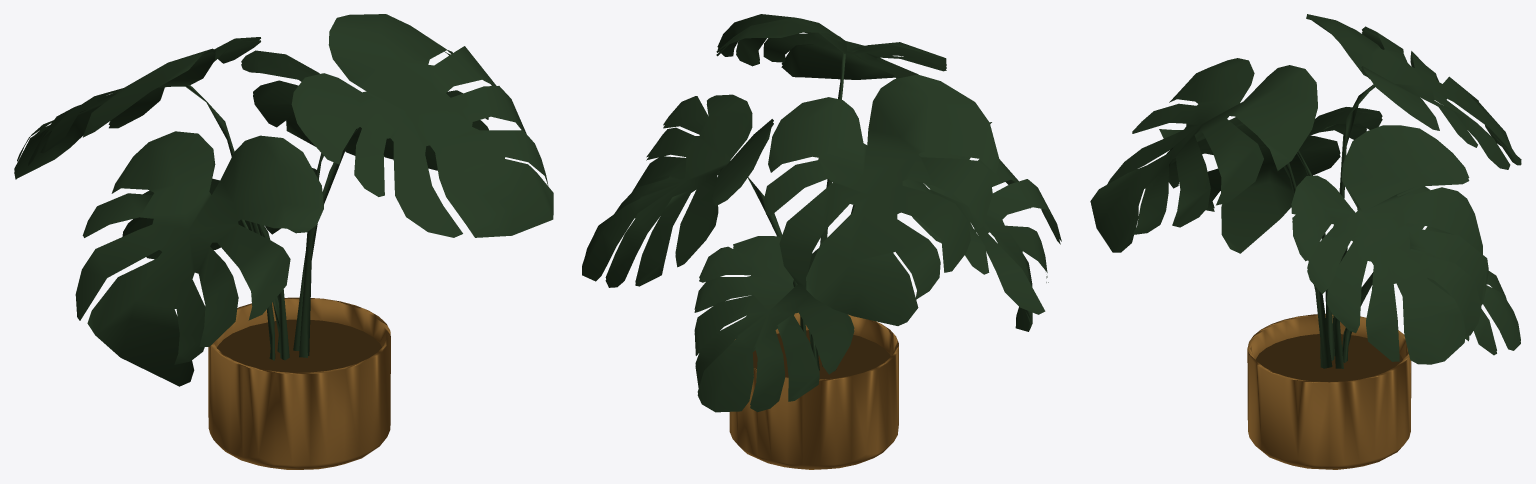
The picture shows the model from 3 angles, left to right: view 1: azimuth 30°, elevation 25°; view 2: azimuth 150°, elevation 25°; view 3: azimuth 270°, elevation 25°; orthographic projection. The views are drawn at different scales.
Visible parts, largest first — view 1: MonsteraPlant; view 2: MonsteraPlant; view 3: MonsteraPlant.
Part boxes in pixels (x1=…): MonsteraPlant: x1=14, y1=14, x2=553, y2=469; MonsteraPlant: x1=582, y1=14, x2=1061, y2=469; MonsteraPlant: x1=1090, y1=14, x2=1521, y2=469.
Size of what is drawn, in the model's own units: 1.64 by 1.53 by 1.56.
2 materials, 2 textured.
